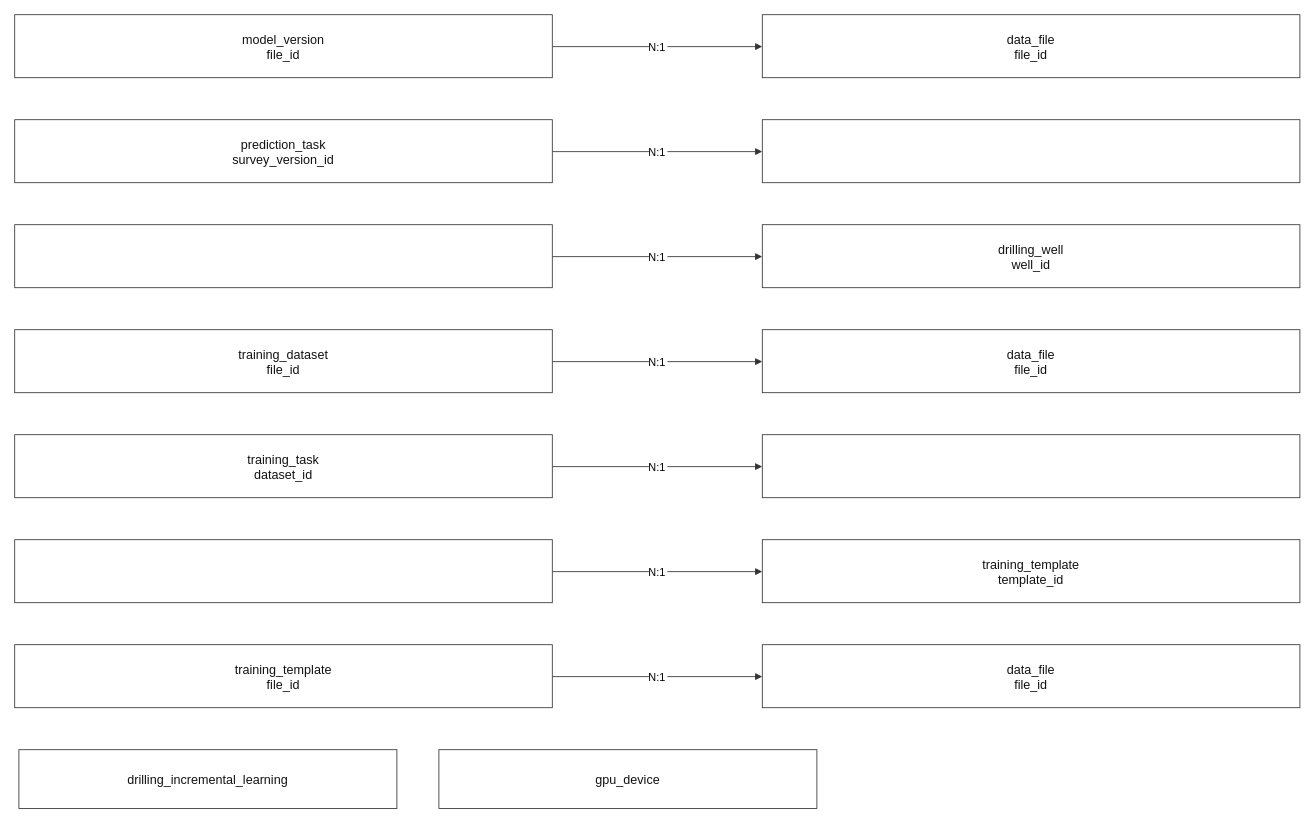
Image size: 1315x823. Some labels were removed from this diagram. The shapes that lost their labels are listed below. From the top down, each one's centre as x and y in pixels, then its label:
[1030,151]: drilling_survey_version survey_version_id
[283,256]: prediction_task well_id
[1030,466]: training_dataset dataset_id
[283,571]: training_task template_id
